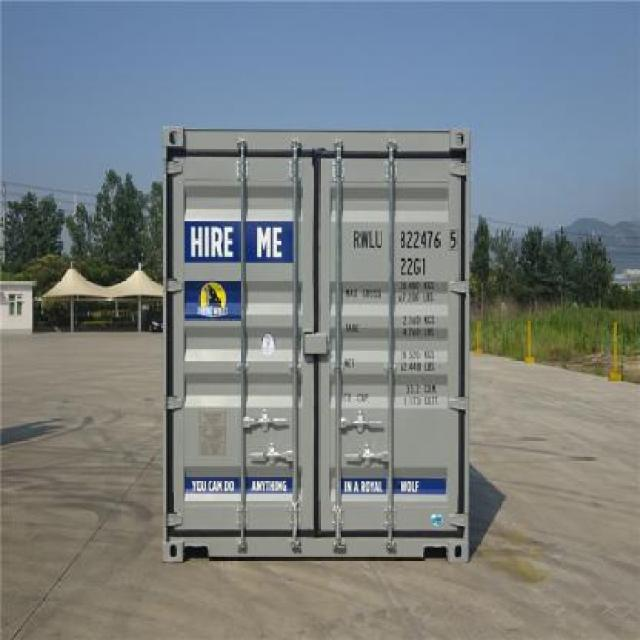ISO: (398, 256, 428, 276)
container_number: (349, 227, 456, 253)
